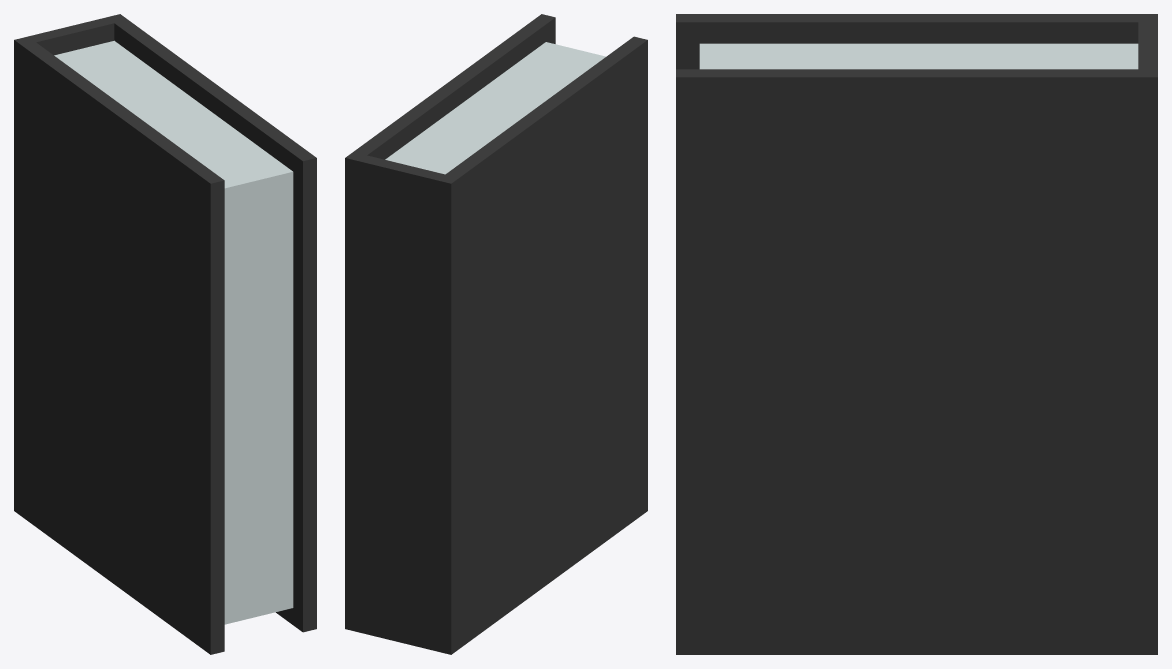
Rendered from Book_1.fbx.
3 views of the same model, side by side, from view 1: azimuth 30°, elevation 25°; view 2: azimuth 150°, elevation 25°; view 3: azimuth 270°, elevation 25° (orthographic). The views are drawn at different scales.
Parts seen in each view (by area): view 1: Book_1; view 2: Book_1; view 3: Book_1.
Boxes of the visible parts, x1,y1,x2,y2 form: Book_1: [14, 14, 316, 654]; Book_1: [345, 14, 647, 654]; Book_1: [676, 14, 1157, 654].
Bounding box in the file's own units: 8.53 × 36.18 × 27.36.
Materials: 1 (1 with a texture image).
